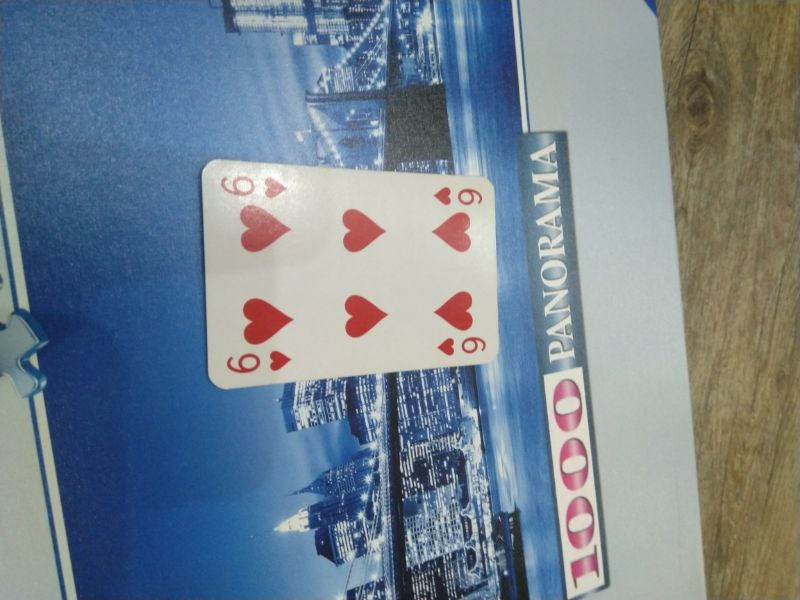6h: (216, 170, 290, 200), (221, 348, 293, 375), (435, 331, 488, 358), (432, 184, 486, 208)
